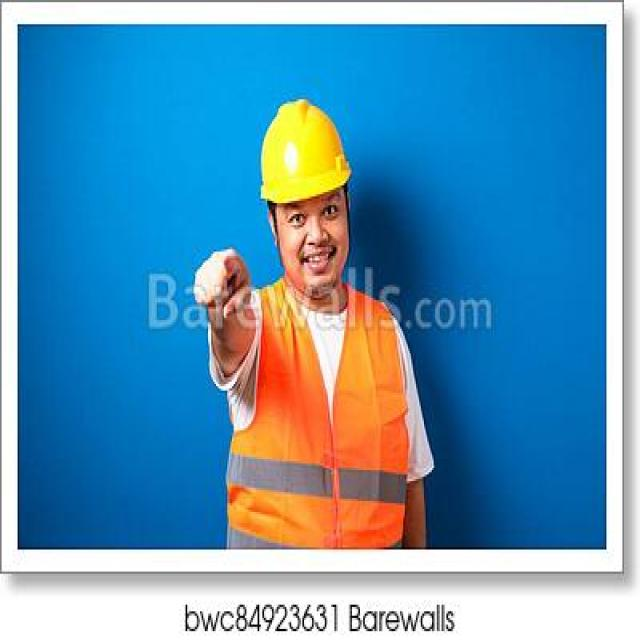helmet: (248, 76, 366, 208)
no-goggles: (268, 196, 351, 238)
vest: (226, 268, 422, 538)
